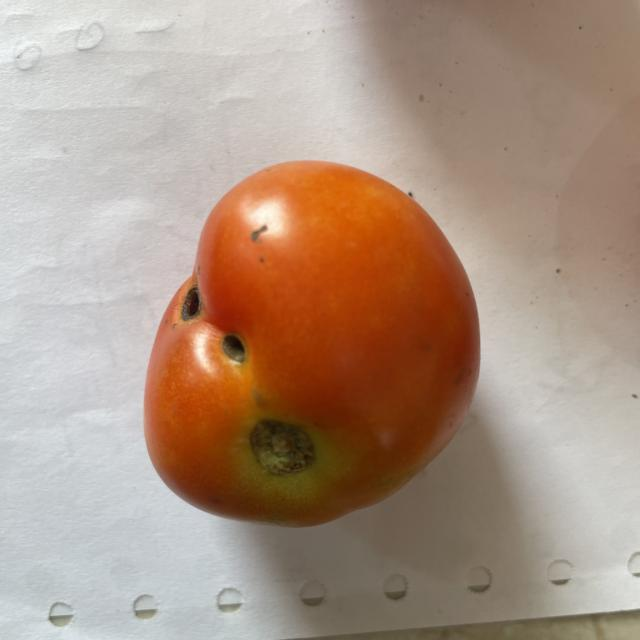fruitworm_bore: (174, 274, 253, 376)
